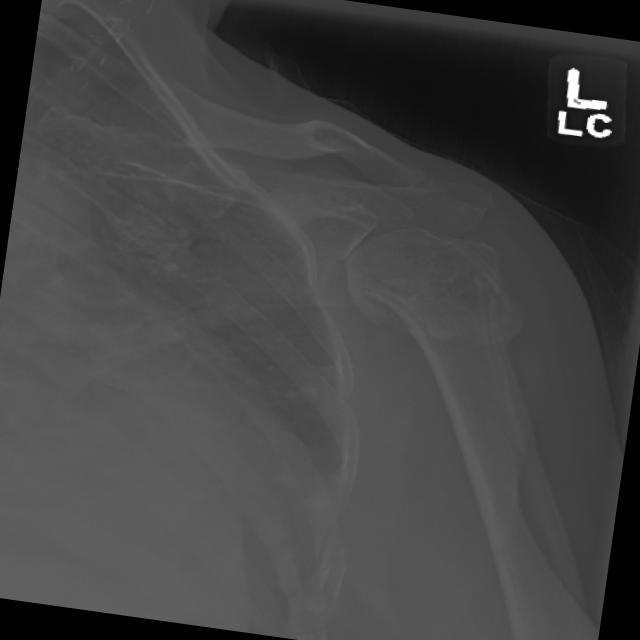shoulder fracture: (337, 177, 576, 408)
